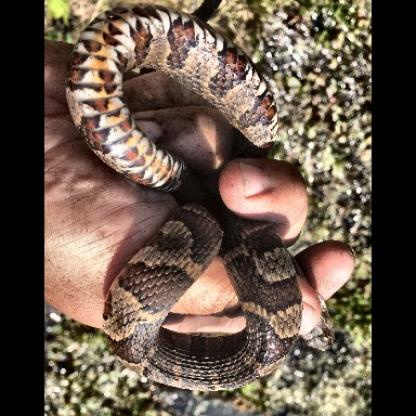Snake: (67, 8, 347, 400), (59, 4, 293, 216)
